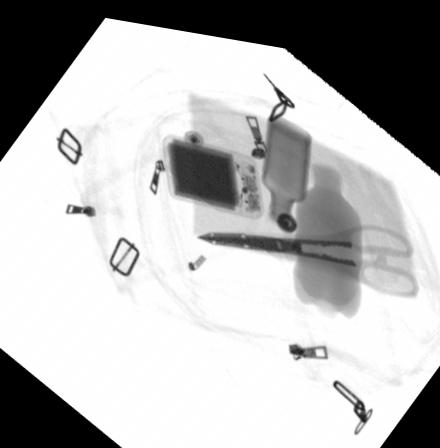Powerbank: (161, 127, 264, 210)
Scissors: (193, 207, 417, 280)
